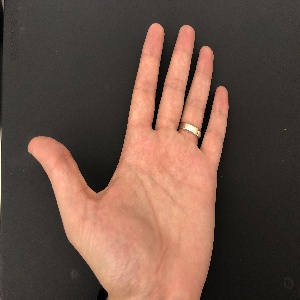hand: (28, 24, 229, 287)
